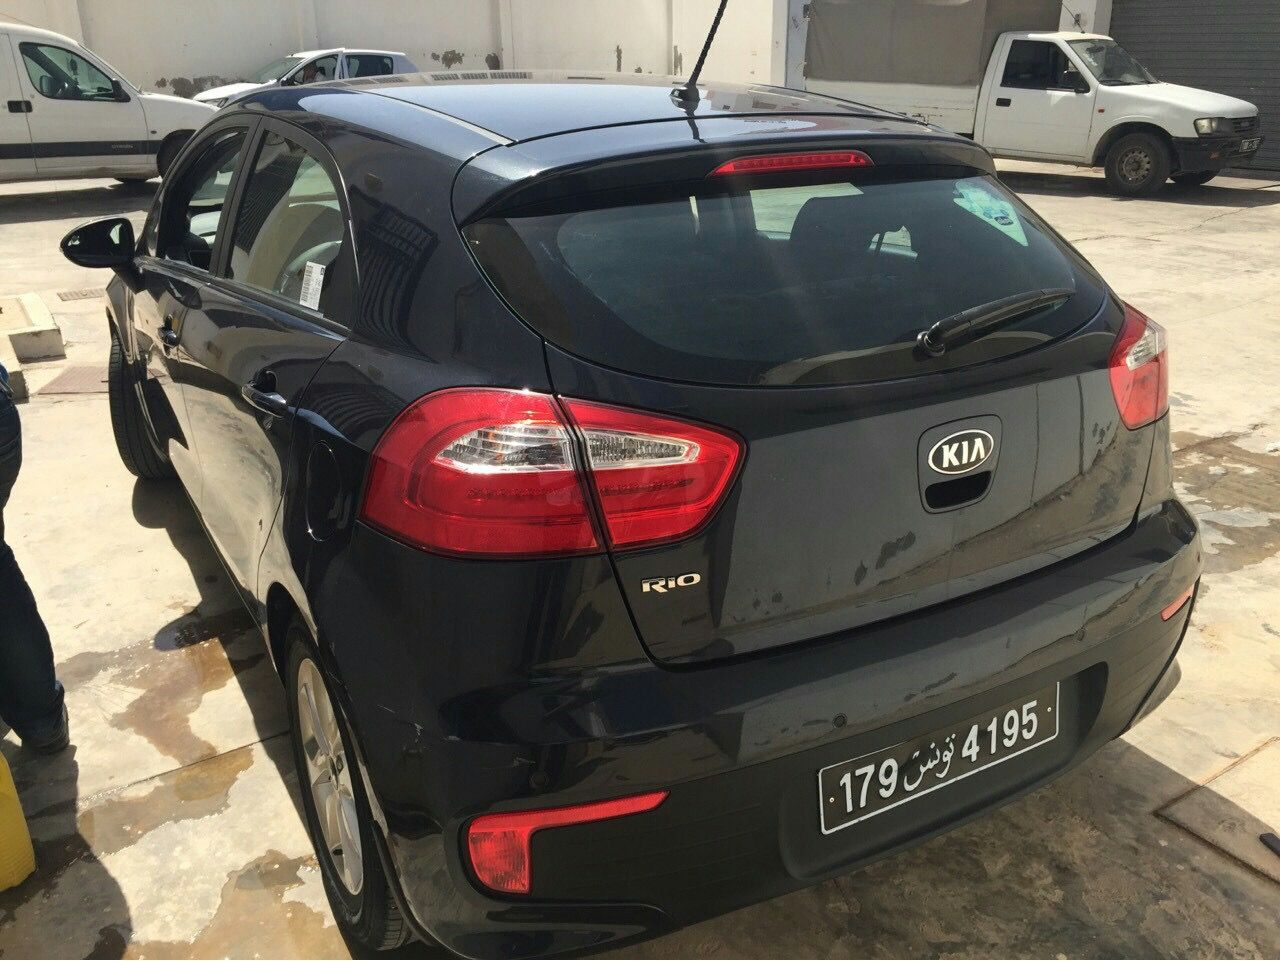LP: (814, 685, 1070, 842)
